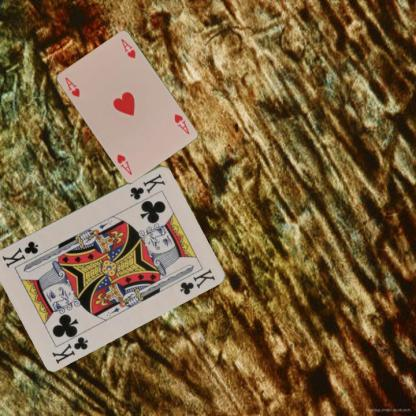Ah: (171, 111, 191, 136), (62, 75, 81, 98)
Kc: (49, 334, 90, 364), (127, 171, 167, 201)
